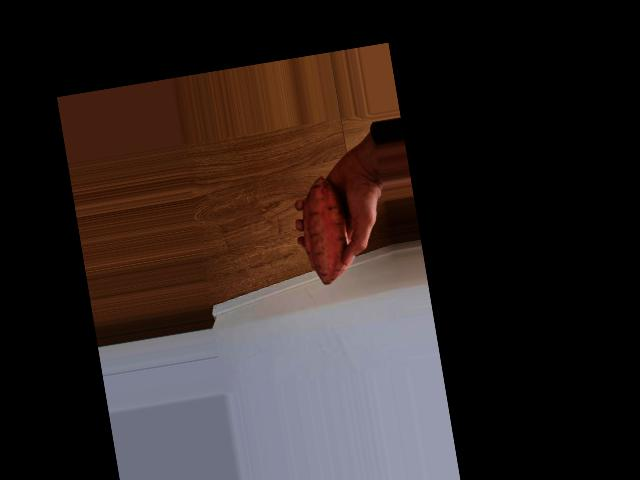sweet_potato: (296, 170, 356, 287)
